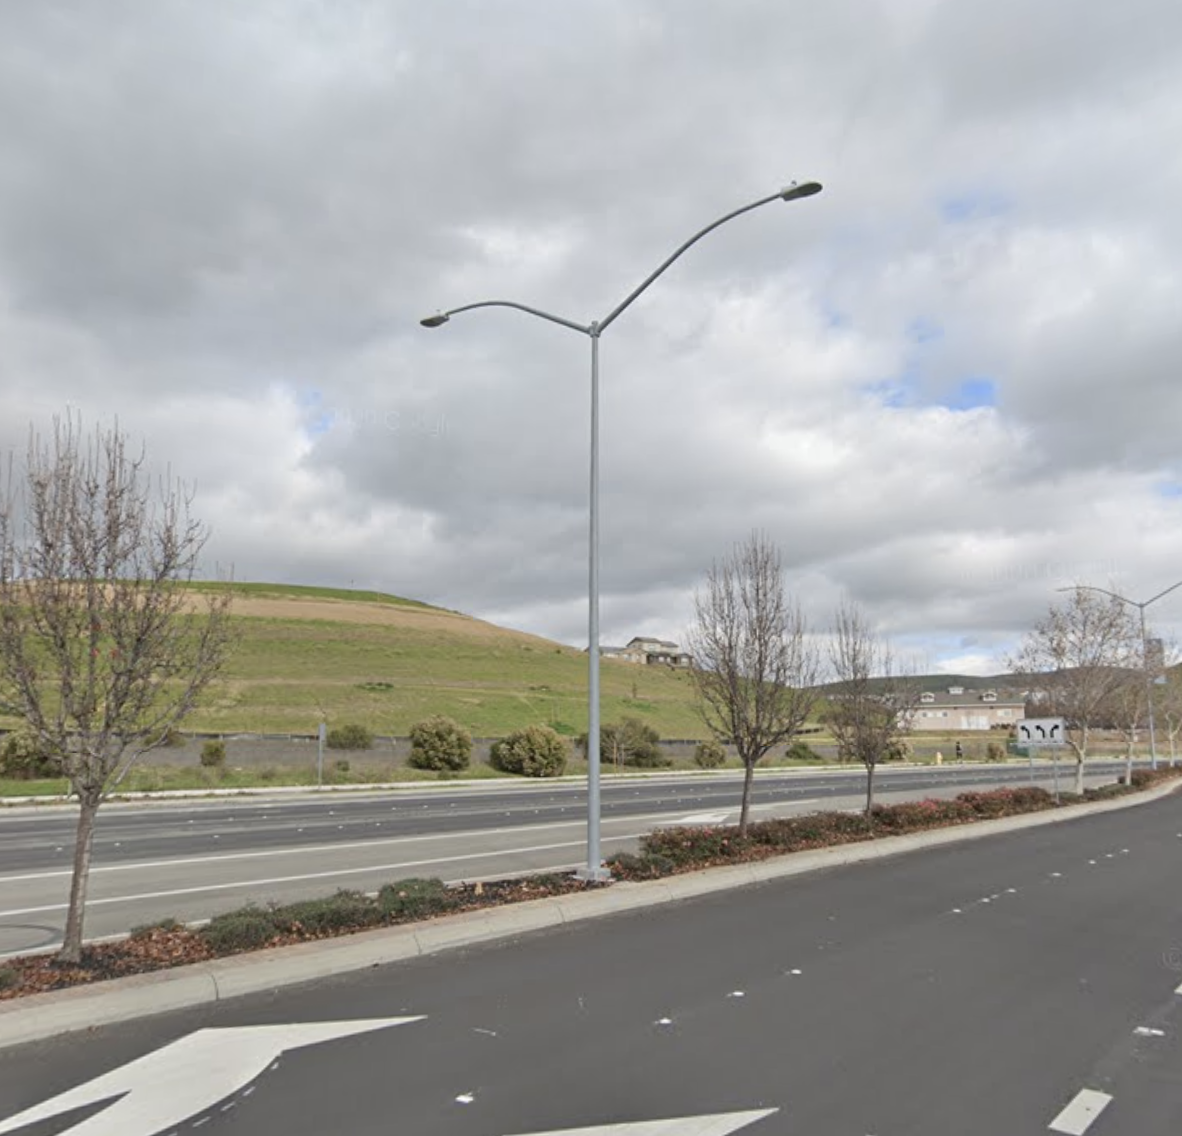pole: (406, 163, 838, 518)
